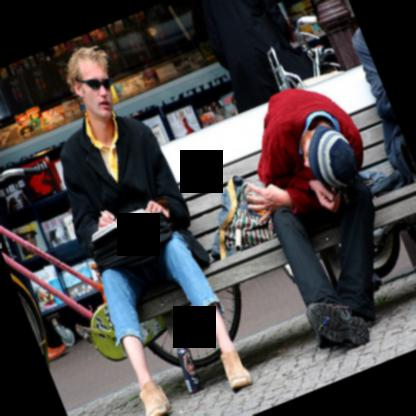handbag: (211, 177, 276, 260), (88, 213, 174, 273)
